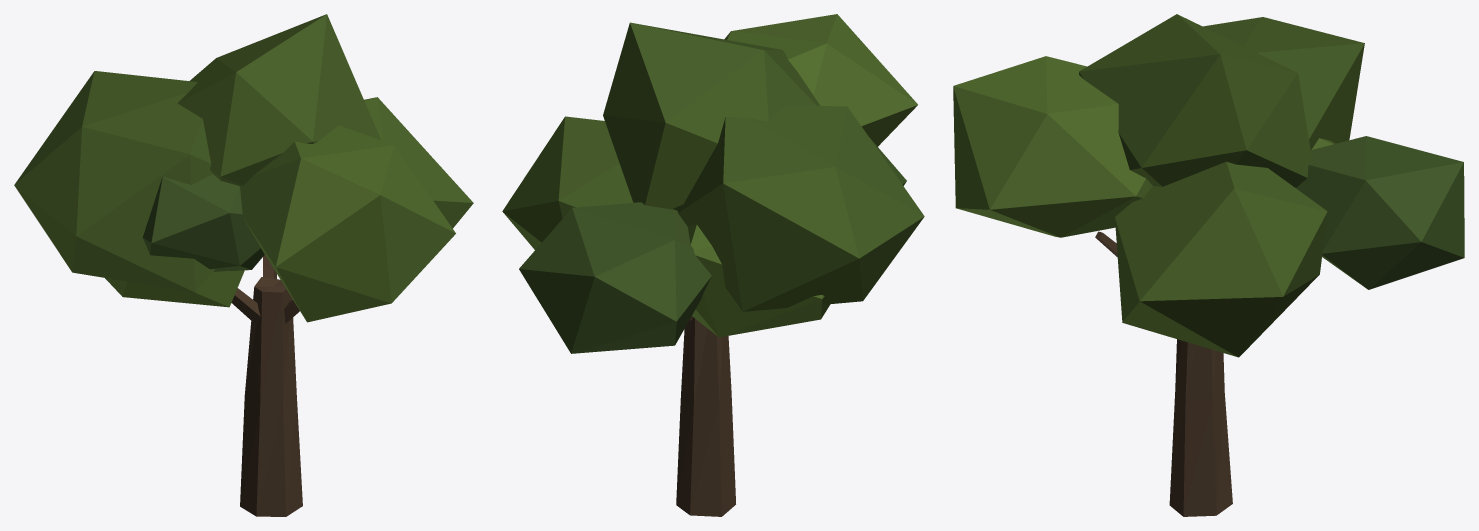
3 renders of one model, left to right at view 1: azimuth 30°, elevation 25°; view 2: azimuth 150°, elevation 25°; view 3: azimuth 270°, elevation 25°, orthographic. The views are drawn at different scales.
Parts seen in each view (by area): view 1: E1_eg_b; view 2: E1_eg_b; view 3: E1_eg_b.
Part boxes in pixels (x1=…): E1_eg_b: x1=14, y1=14, x2=473, y2=516; E1_eg_b: x1=502, y1=14, x2=924, y2=516; E1_eg_b: x1=953, y1=14, x2=1464, y2=516.
Size of the model in its own units: 6.44 by 7.62 by 7.29.
